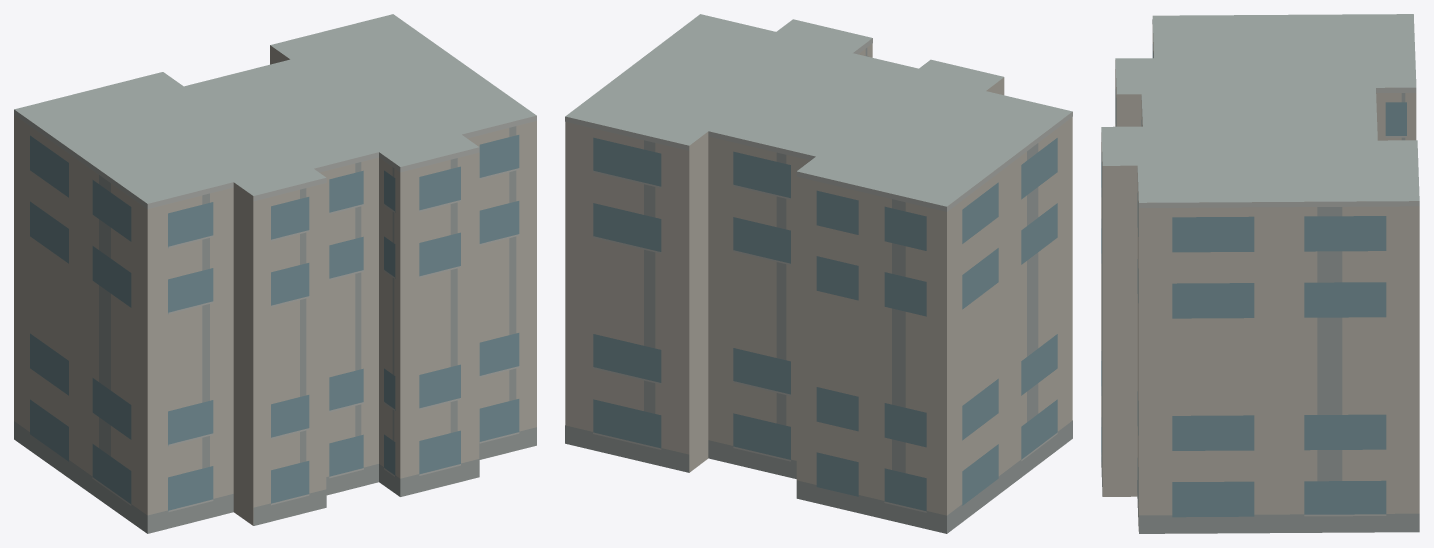
File: residential-19e49de6-f005-41cc-8712-3828a5742ac5.glb
The picture shows the model from 3 angles, left to right: view 1: azimuth 30°, elevation 25°; view 2: azimuth 150°, elevation 25°; view 3: azimuth 270°, elevation 25°; orthographic projection.
Parts seen in each view (by area): view 1: residential-19e49de6-f005-41cc-8712-3828a5742ac5.tmp; view 2: residential-19e49de6-f005-41cc-8712-3828a5742ac5.tmp; view 3: residential-19e49de6-f005-41cc-8712-3828a5742ac5.tmp.
Boxes of the visible parts, x1,y1,x2,y2 form: residential-19e49de6-f005-41cc-8712-3828a5742ac5.tmp: (14, 14, 536, 533); residential-19e49de6-f005-41cc-8712-3828a5742ac5.tmp: (565, 14, 1072, 533); residential-19e49de6-f005-41cc-8712-3828a5742ac5.tmp: (1101, 14, 1419, 533).
Bounding box in the file's own units: 18.67 × 15.25 × 13.3.
